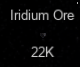Iridium: (9, 8, 75, 61)
